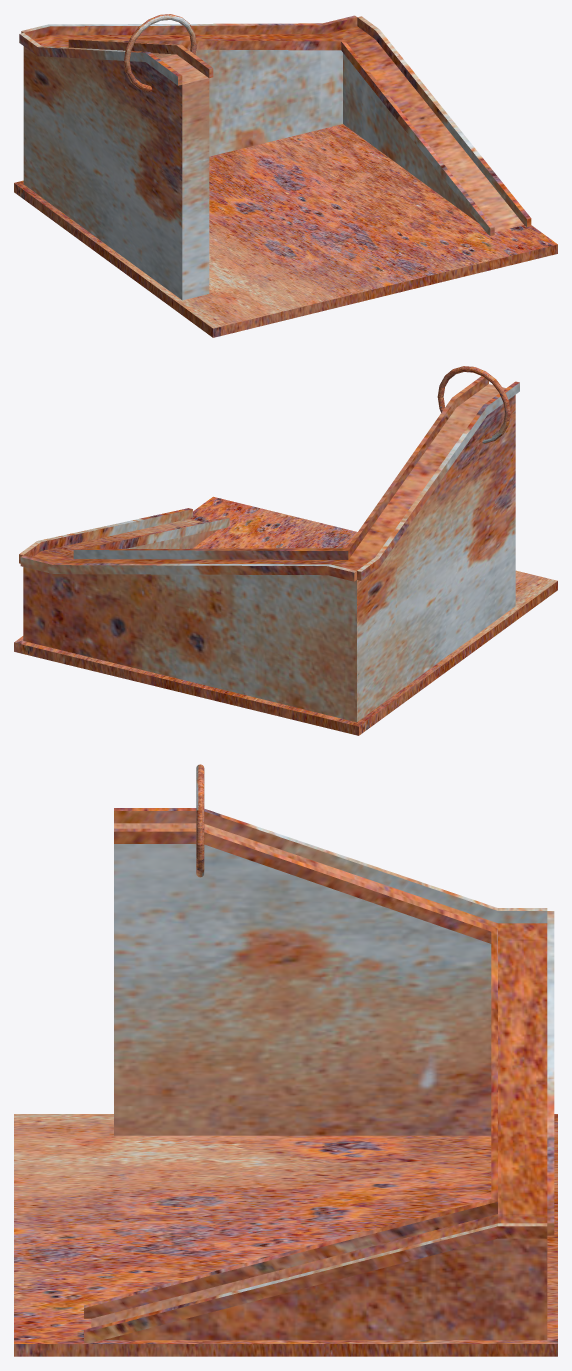
File: nivel_oxido.fbx
The picture shows the model from 3 angles, top to bottom: view 1: azimuth 30°, elevation 25°; view 2: azimuth 150°, elevation 25°; view 3: azimuth 270°, elevation 25°; orthographic projection. The views are drawn at different scales.
Parts seen in each view (by area): view 1: Rampa, Plano, Meta; view 2: Rampa, Plano, Meta; view 3: Rampa, Plano, Meta.
Part boxes in pixels (x1,y1,x2,y2): Rampa: [19, 15, 531, 300]; Plano: [14, 124, 557, 337]; Meta: [124, 14, 196, 91]; Rampa: [19, 376, 519, 722]; Plano: [14, 496, 557, 735]; Meta: [437, 366, 510, 443]; Rampa: [84, 808, 554, 1343]; Plano: [14, 1114, 557, 1356]; Meta: [196, 764, 204, 877].
Size of the model in its own units: 424 by 298 by 400.
Materials: 1 (1 with a texture image).
